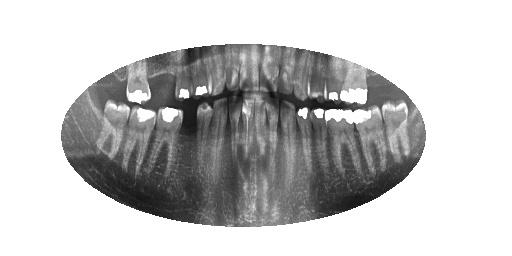Cavity: (264, 95, 282, 183), (281, 99, 297, 186), (227, 95, 245, 162), (260, 45, 283, 93)
Fillings: (355, 106, 388, 177), (153, 105, 183, 178), (327, 107, 355, 180), (128, 106, 156, 175), (340, 61, 370, 107), (126, 59, 153, 104), (296, 105, 312, 176), (192, 47, 209, 101), (176, 45, 192, 101), (323, 58, 342, 102)
